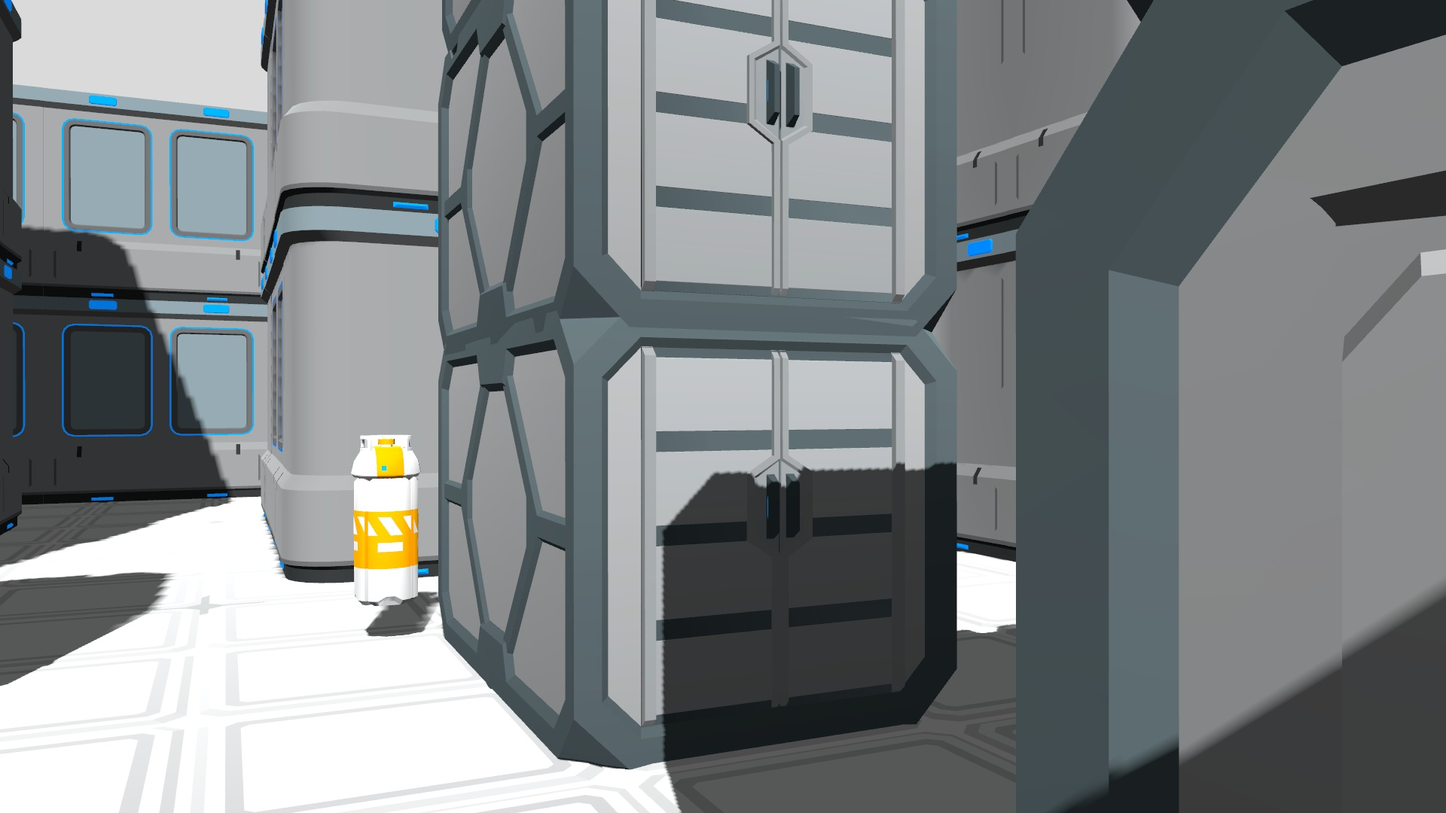yellow_barrel: (346, 427, 426, 609)
